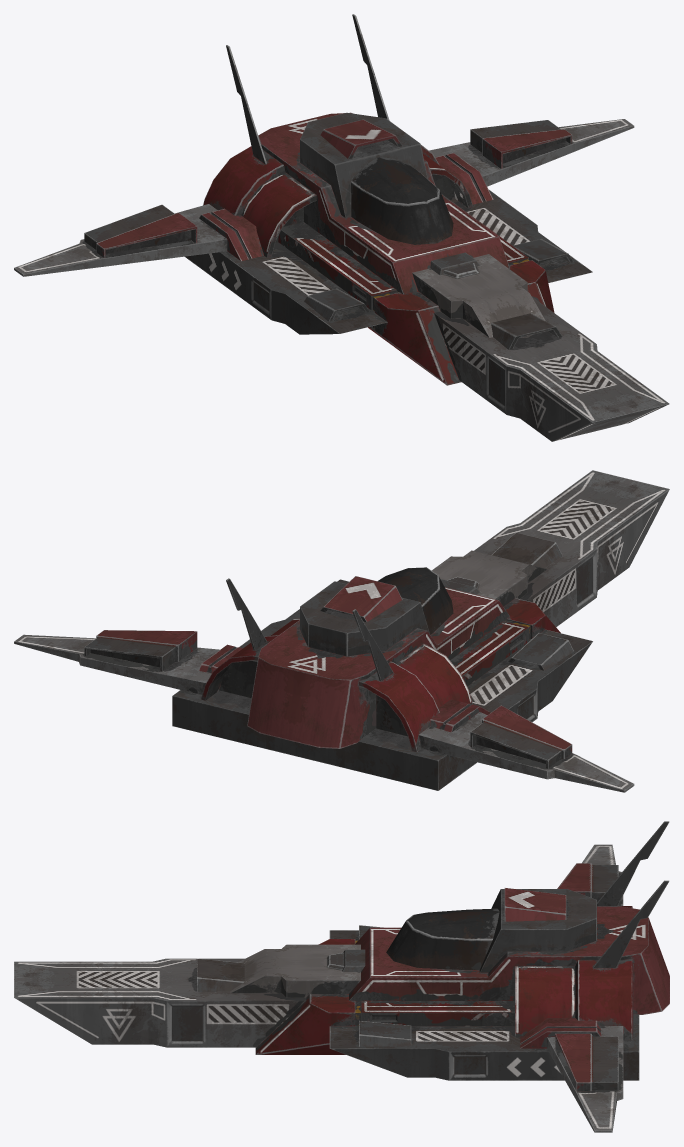
The model's file is challenger.glb.
The picture shows the model from 3 angles, top to bottom: view 1: azimuth 30°, elevation 25°; view 2: azimuth 150°, elevation 25°; view 3: azimuth 270°, elevation 25°; orthographic projection. The views are drawn at different scales.
Visible parts, largest first — view 1: Challenger; view 2: Challenger; view 3: Challenger.
Part boxes in pixels (bbox=[...]): Challenger: bbox=[14, 14, 669, 441]; Challenger: bbox=[14, 470, 669, 792]; Challenger: bbox=[14, 821, 669, 1132].
Bounding box in the file's own units: 10.5 × 3.02 × 10.18.
1 material, 1 textured.
